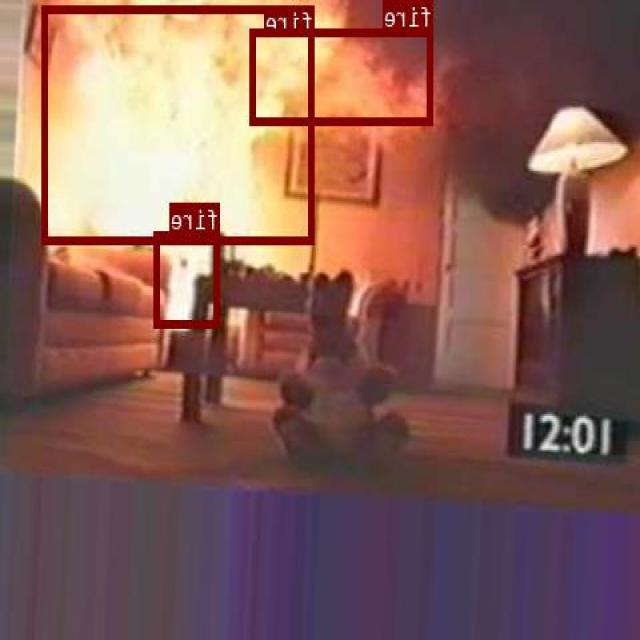fire: (43, 4, 314, 242), (251, 28, 435, 124), (155, 231, 221, 327)
